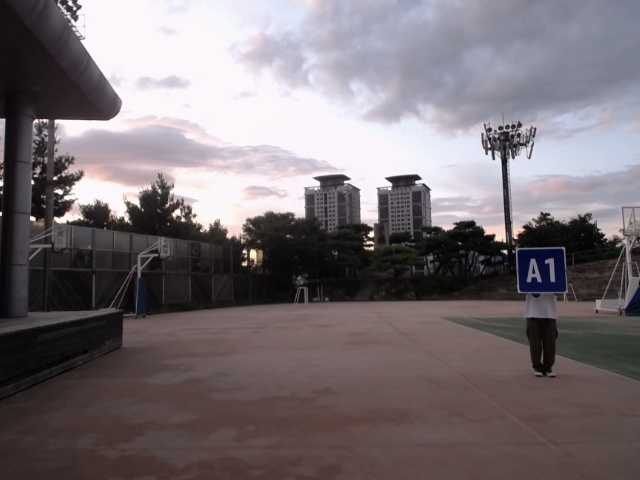delivery_a1: (516, 248, 567, 292)
